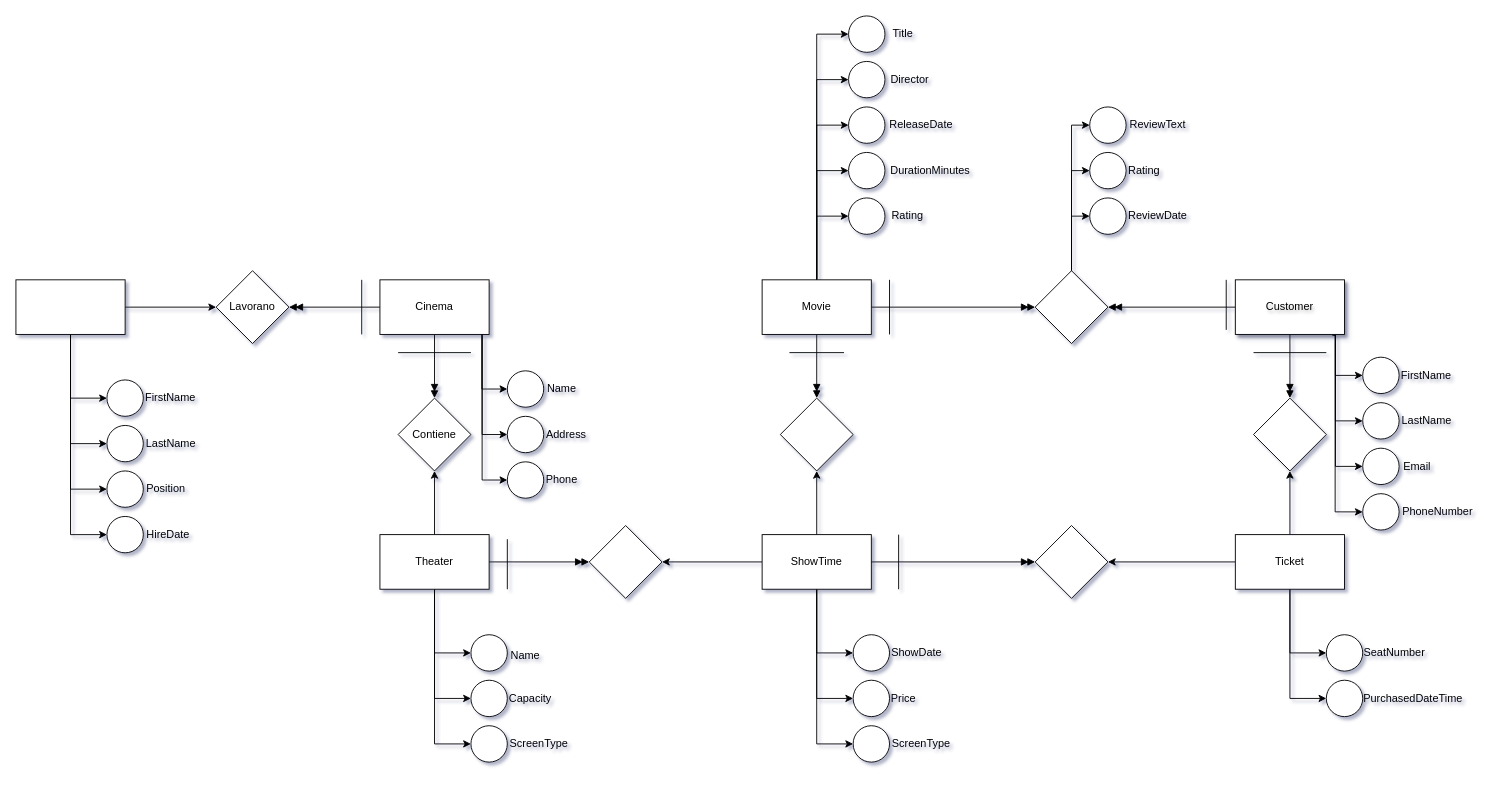
Image size: 1494x786. Some labels were removed from this diagram. The centre of each missing label's shape, as x and y in pixels:
Compra: [1289,434]
Employee: [70,306]
Programma: [816,434]
Review: [1071,307]
